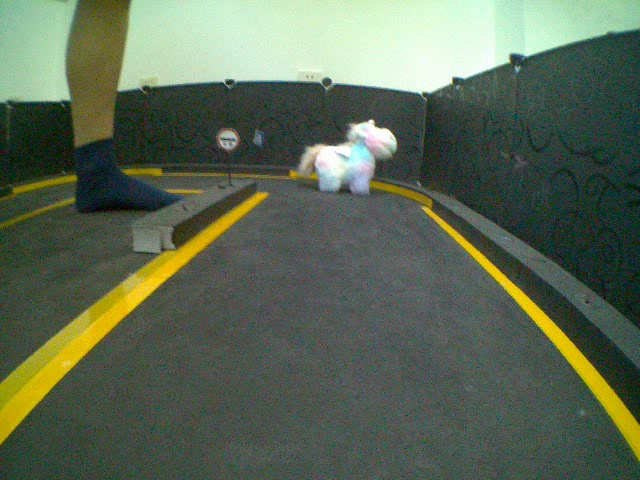unicorn: (286, 117, 399, 199)
